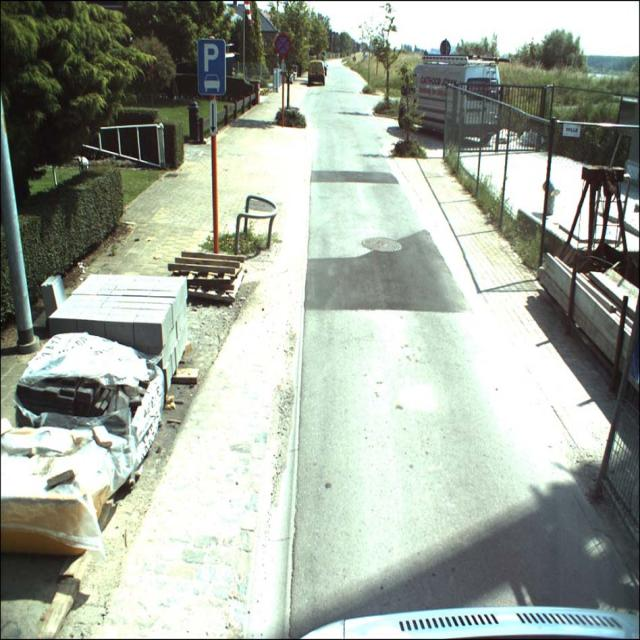park: (198, 38, 226, 76)
